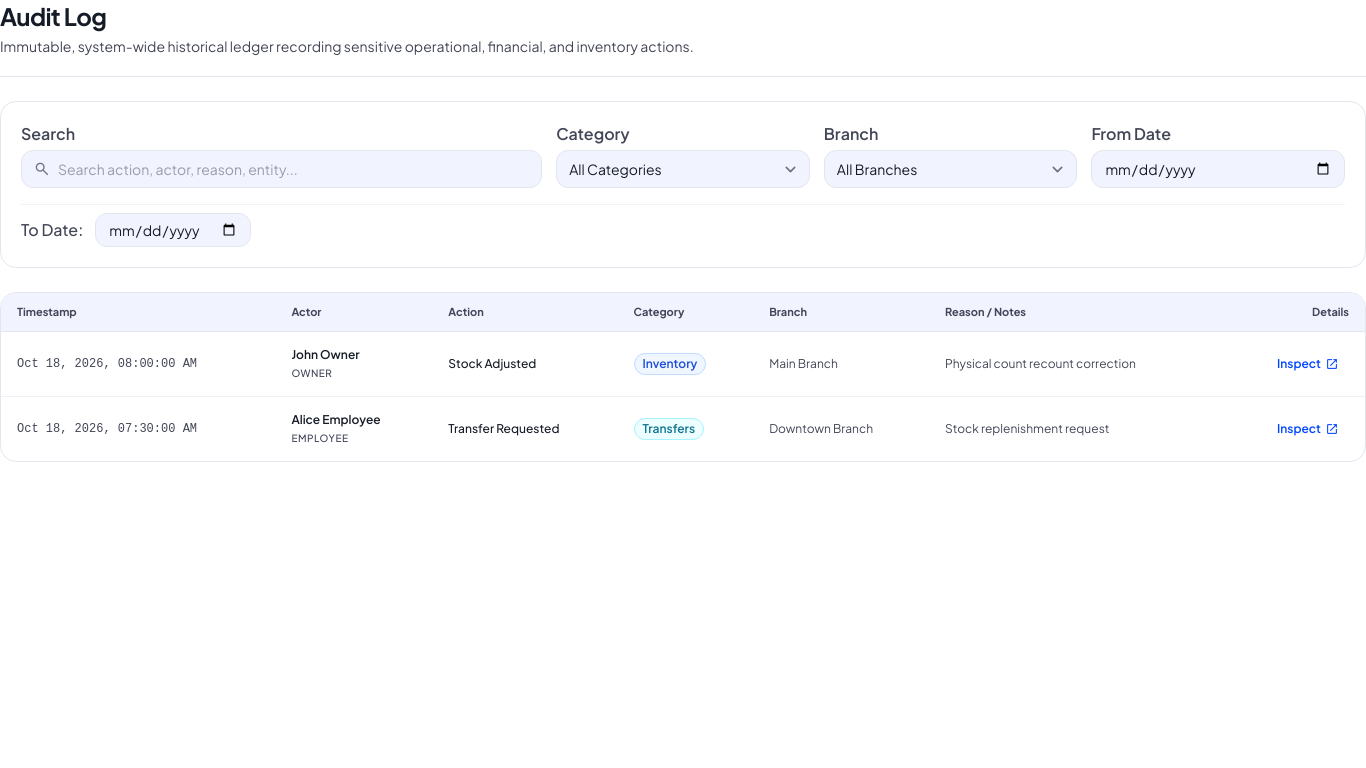
Test case: AuditLogPage › opens metadata inspection modal on clicking Inspect button and closes it
Expected: the text "Physical count recount correction" is shown, [929,332,1218,396]
Click the button "Inspect" in the row of "Oct 18, 2026, 08:00:00 AM" at (1308, 364), box [1267,352,1349,376]
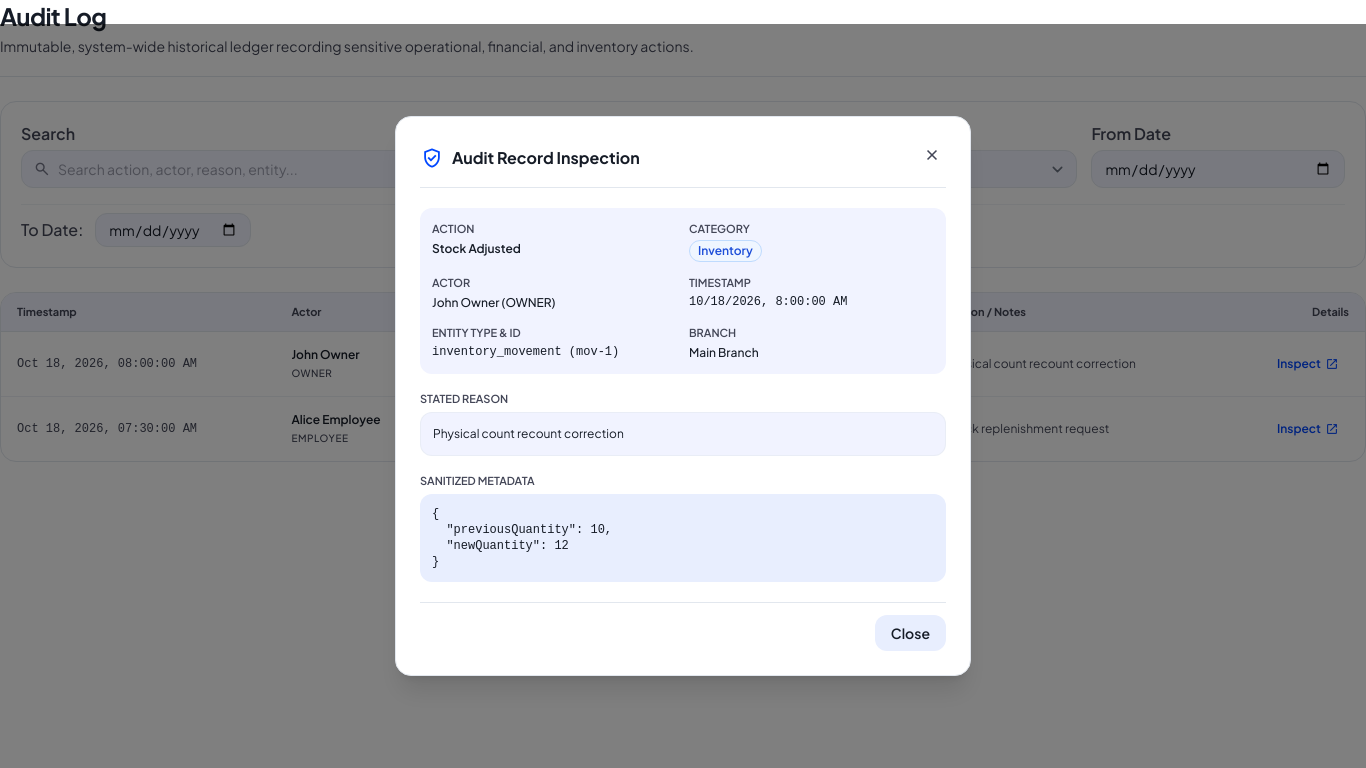
Expected: the heading "Audit Record Inspection" is shown, [452,146,640,170]
Expected: the text "Sanitized Metadata" is shown, [420,474,535,487]
Close button
Click the button "Close" at (910, 633), box [875,615,946,651]
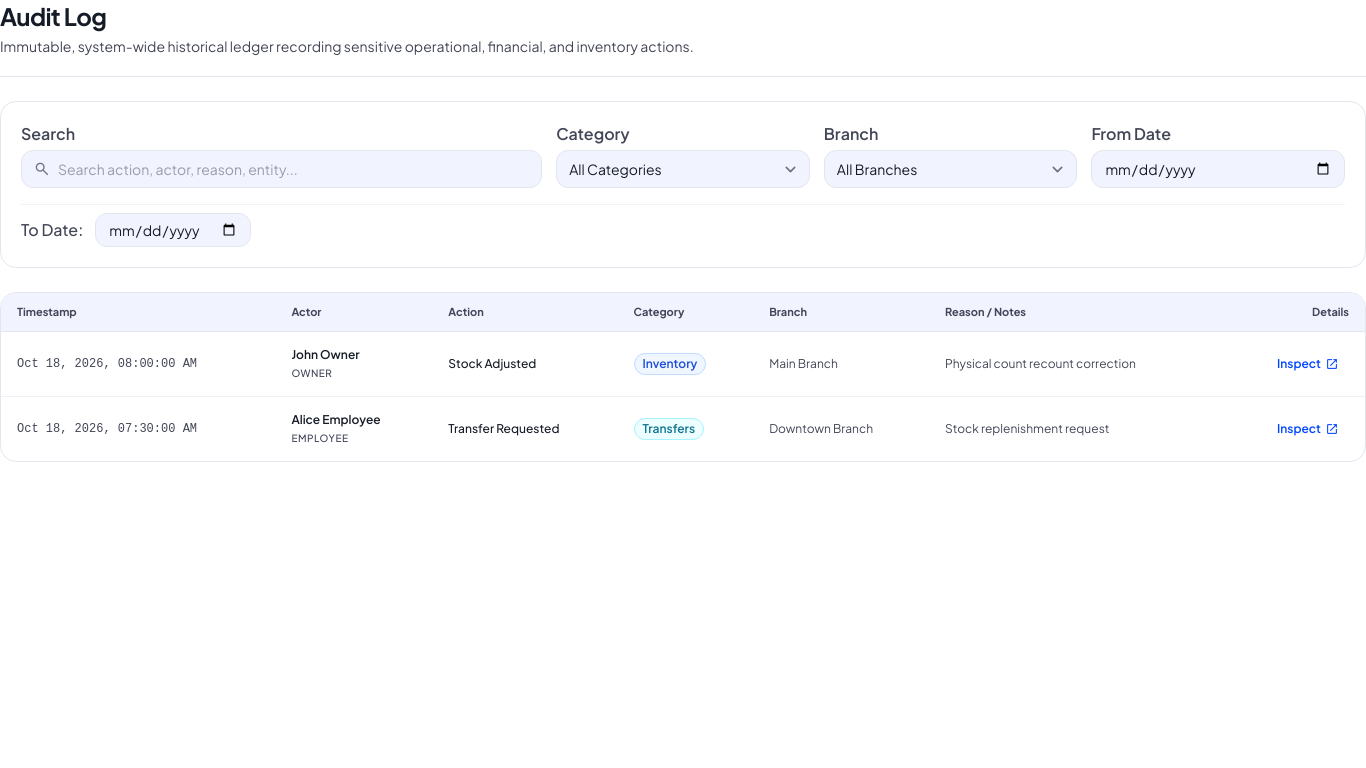
Expected: the heading "Audit Record Inspection" is gone
